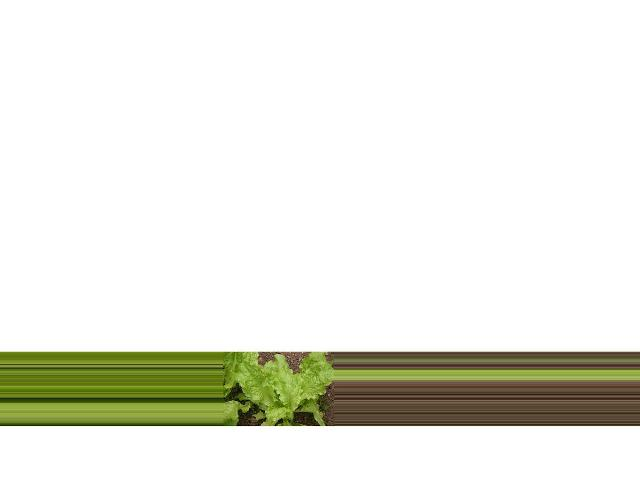lettuce: (222, 355, 333, 431)
